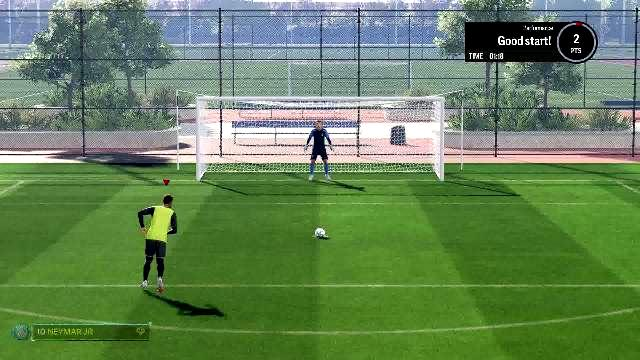bottom-left: (206, 144, 278, 180)
bottom-right: (356, 142, 436, 180)
center-down: (279, 144, 359, 180)
center-up: (280, 102, 362, 144)
football: (314, 228, 326, 238)
goalkeeper: (304, 120, 338, 182)
player: (134, 192, 180, 298)
top-left: (207, 102, 281, 144)
top-right: (358, 103, 438, 143)
